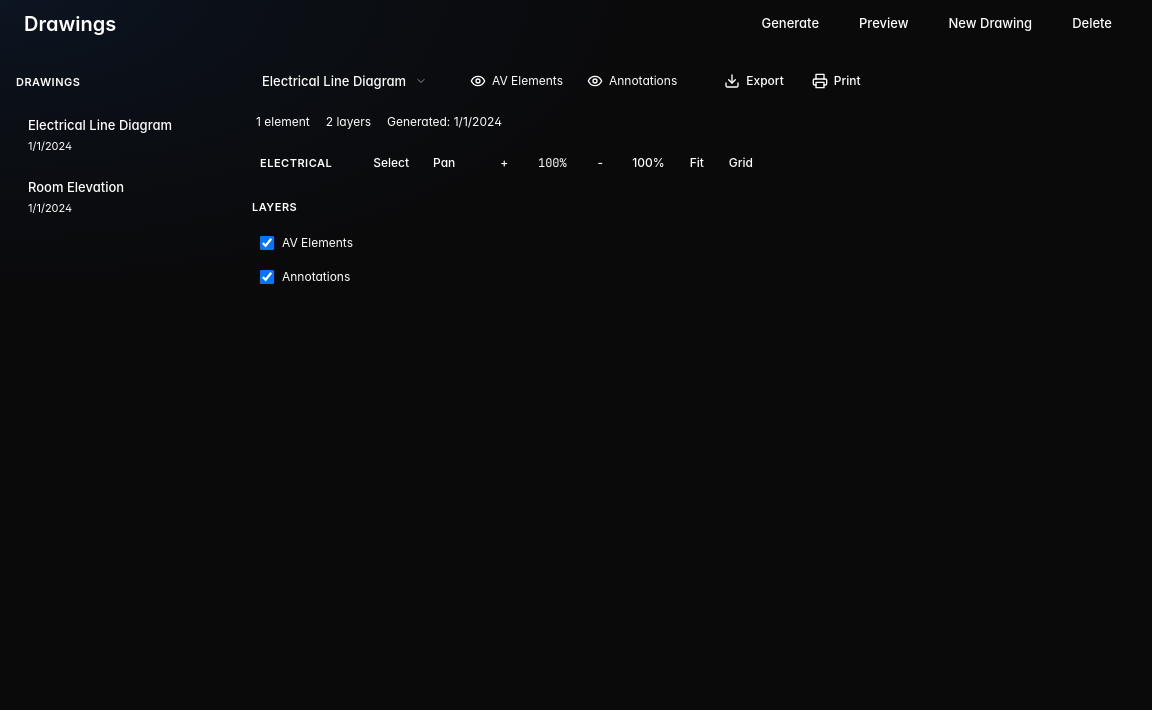
Test case: DrawingsPage › Create Drawing › shows drawing type options when create button clicked
Click the button "New Drawing": (990, 24) [932,6,1048,42]
(page scrolled)
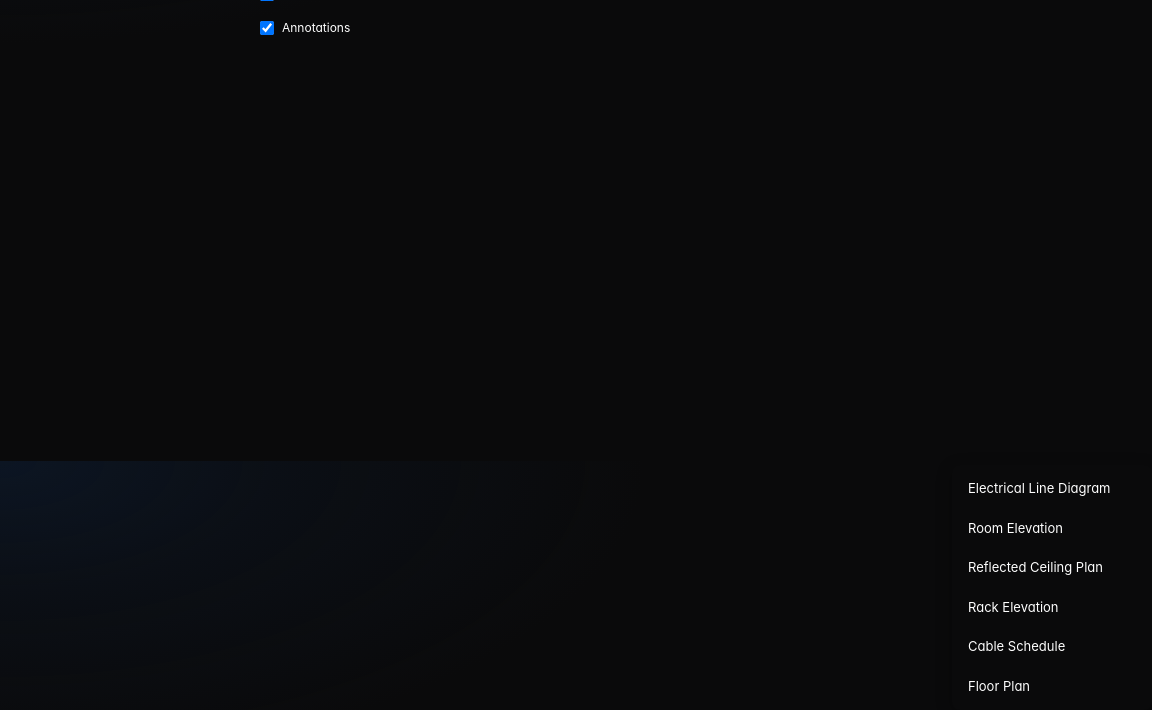
Check: the menu is shown, box [952,465,1151,709]
